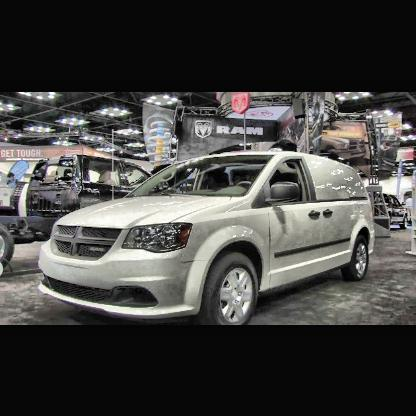Ram C-V Cargo Van Minivan 2012: (23, 150, 375, 322)
